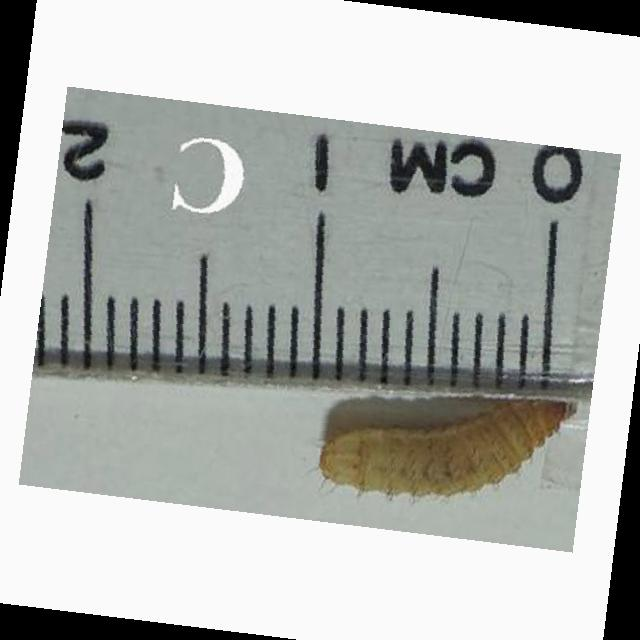Maggot: (318, 400, 584, 501)
